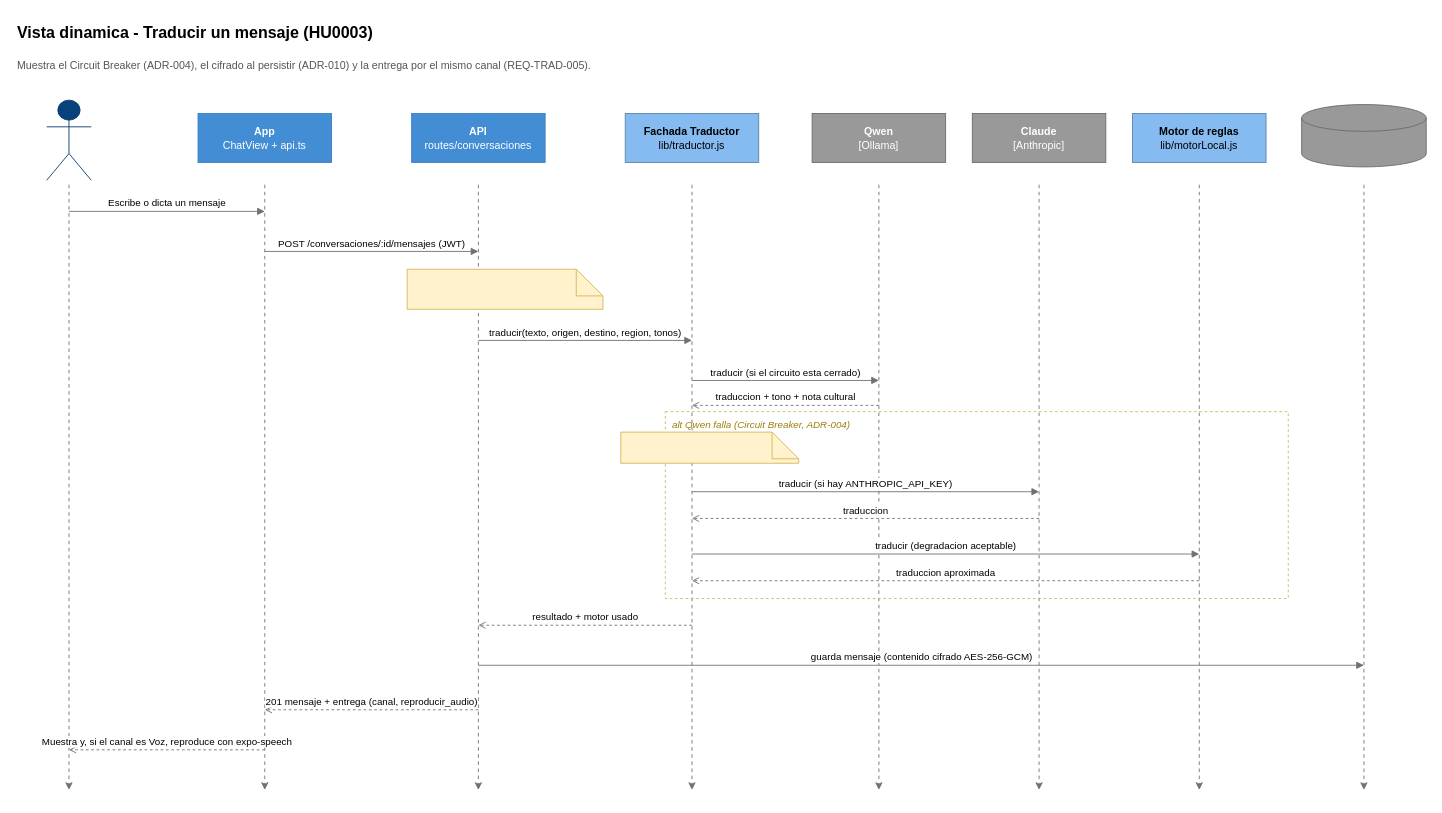
This 1442x813 diagram has some shape labels left out. The shapes that lost their labels are listed below. From the top down, each one's centre as x and y in pixels, then its label:
At pixel 68 139: "Cliente Traductor [Persona]".
At pixel 1363 135: "SurrealDB".
At pixel 504 288: "Si falta el idioma origen, lo detecta con el 1er mensaje (RN-2)".
At pixel 709 447: "Abre el circuito 60 s (ADR-004)".
